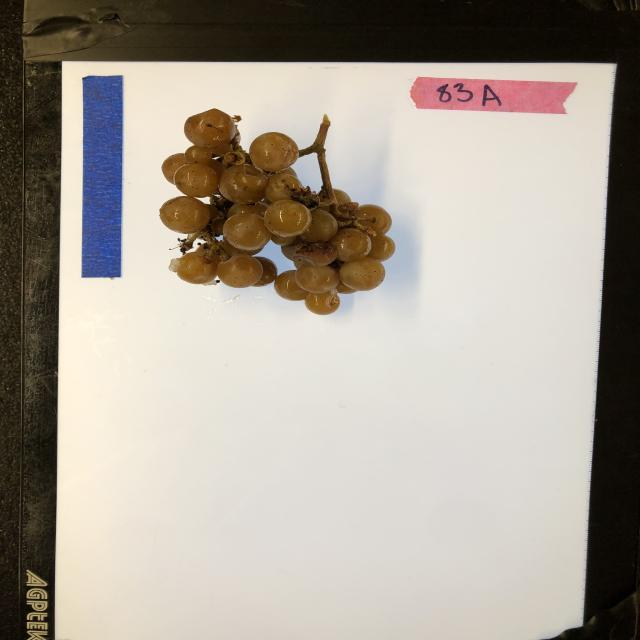grape_cluster: (159, 106, 398, 316)
index: (410, 74, 579, 115)
measure_label: (81, 74, 124, 278)
